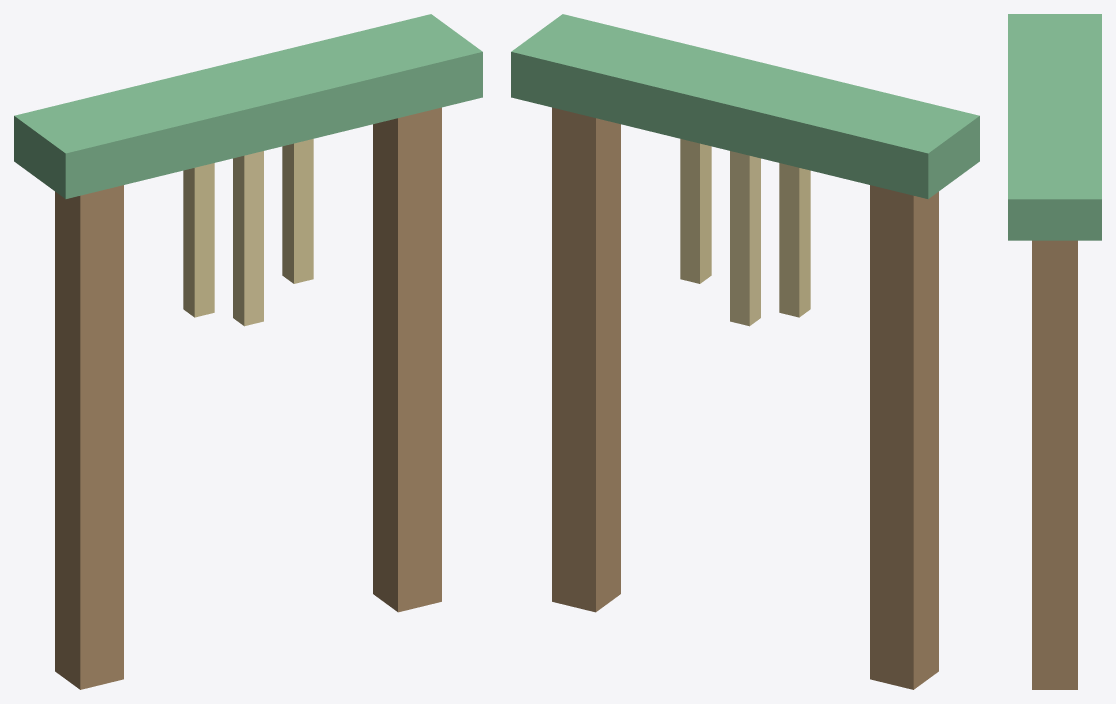
File: prop-wind-chime.glb
The picture shows the model from 3 angles, left to right: view 1: azimuth 30°, elevation 25°; view 2: azimuth 150°, elevation 25°; view 3: azimuth 270°, elevation 25°; orthographic projection. The views are drawn at different scales.
Visible parts, largest first — view 1: prop-wind-chime; view 2: prop-wind-chime; view 3: prop-wind-chime.
Part boxes in pixels (box(x1,y1,x2,y2)): prop-wind-chime: box(14, 14, 482, 689); prop-wind-chime: box(511, 14, 979, 689); prop-wind-chime: box(1008, 14, 1101, 689).
Bounding box in the file's own units: 2.1 × 2.66 × 0.45.
